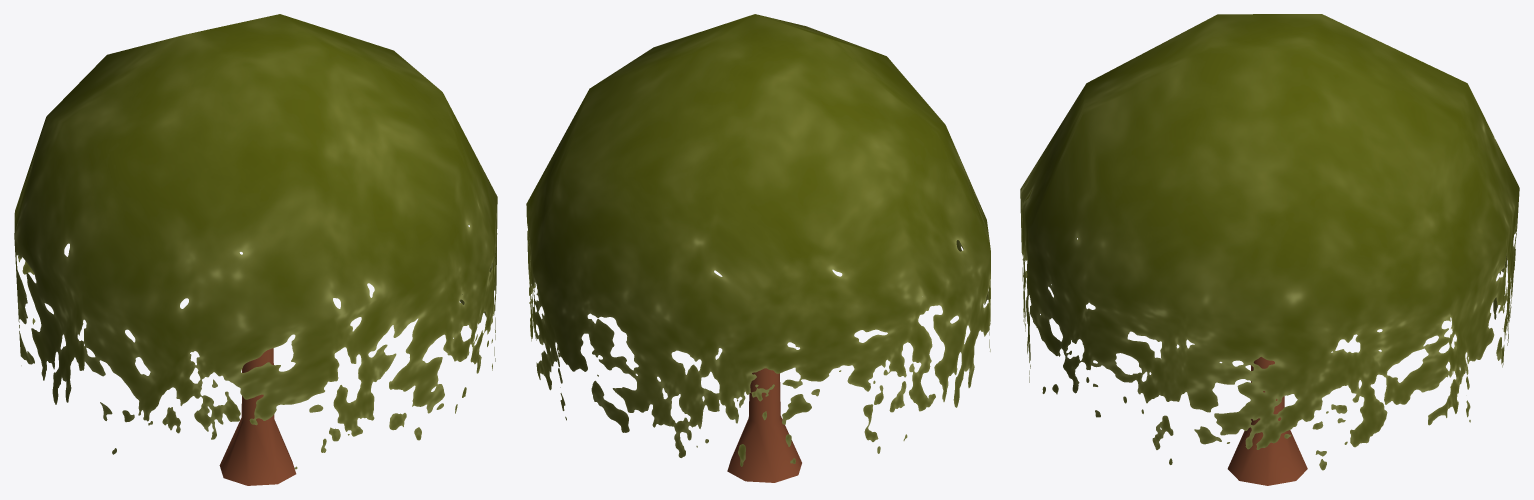
3 renders of one model, left to right at view 1: azimuth 30°, elevation 25°; view 2: azimuth 150°, elevation 25°; view 3: azimuth 270°, elevation 25°, orthographic. The views are drawn at different scales.
Visible parts, largest first — view 1: obj2; view 2: obj2; view 3: obj2.
Boxes of the visible parts, x1,y1,x2,y2 form: obj2: (14,14,497,485); obj2: (526,14,990,482); obj2: (1020,14,1519,485).
Size of the model in its own units: 17.34 by 17.5 by 18.06.
1 material, 1 textured.
